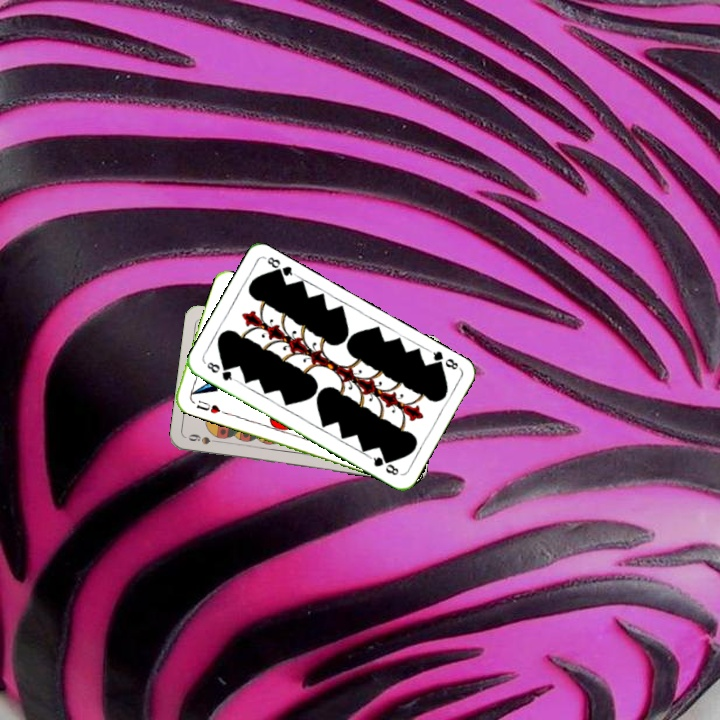G8: (425, 346, 462, 372), (203, 358, 238, 384)
HU: (192, 396, 227, 416)
S9: (184, 430, 224, 447)
